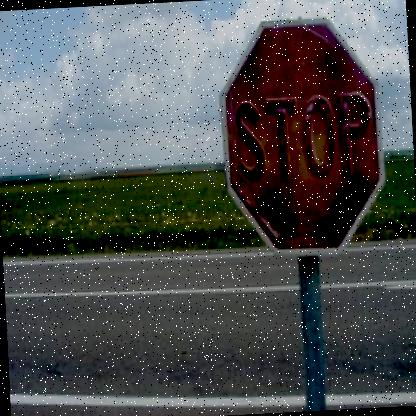stop: (210, 10, 388, 255)
